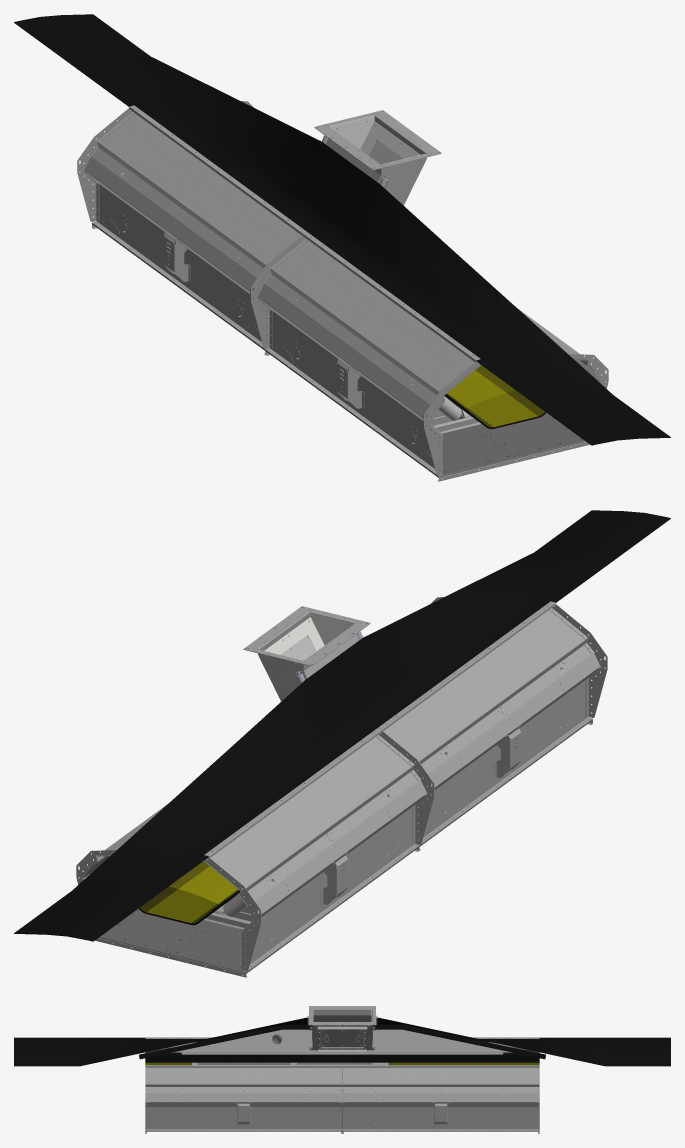
3 views of the same model, one above another, from view 1: azimuth 30°, elevation 25°; view 2: azimuth 150°, elevation 25°; view 3: azimuth 270°, elevation 25° (orthographic). The views are drawn at different scales.
Visible parts, largest first — view 1: Solid2 (×18), Solid1; view 2: Solid2 (×18), Solid1; view 3: Solid2 (×23), Solid1.
Part boxes in pixels (x1,y1,x2,y2): Solid2 (×18): [14, 14, 670, 481]; Solid1: [444, 365, 545, 429]; Solid2 (×18): [14, 510, 670, 977]; Solid1: [139, 861, 240, 925]; Solid2 (×23): [14, 1006, 670, 1130]; Solid1: [388, 1062, 539, 1065].
Bounding box in the file's own units: 1.84 × 1.79 × 10.
Materials: 15 (1 with a texture image).
